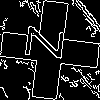Z: (25, 25, 74, 62)
